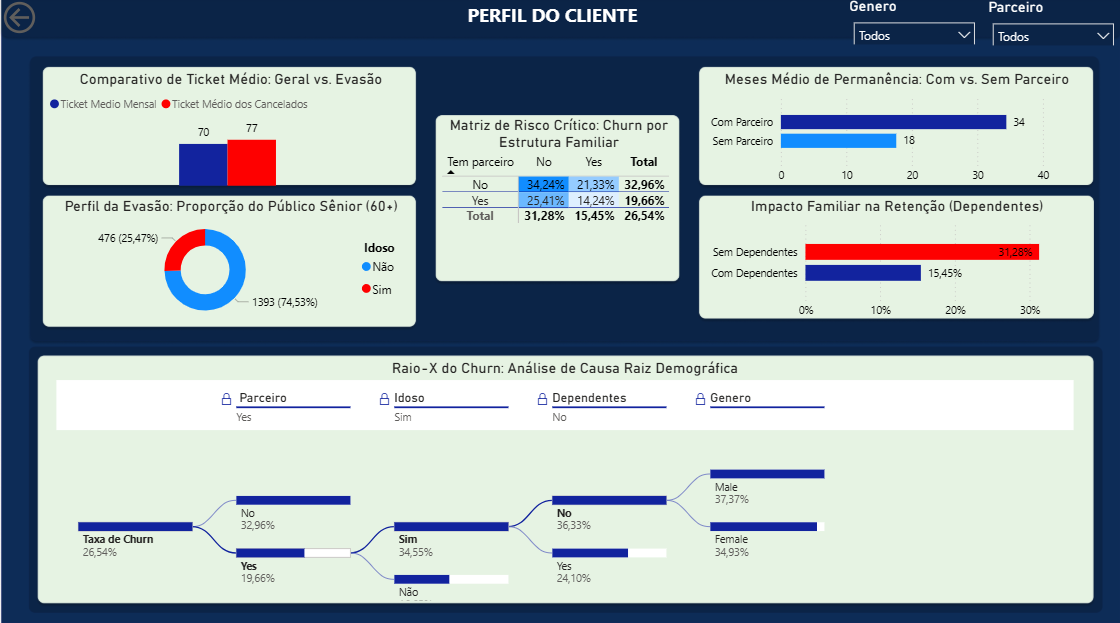

The page's visual inventory and layout, read from the dashboard file:
{"tool":"powerbi","page":{"name":"Perfil do Cliente","canvas":[1280,720],"ordinal":2},"visuals":[{"type":"clusteredColumnChart","title":"Comparativo de Ticket Médio: Geral vs. Evasão","fields":{"Y":["_Medidas.Ticket Medio Mensal","_Medidas.Ticket Médio dos Cancelados"]},"box":[52.4,83.2,423.8,137.8],"z":0},{"type":"clusteredBarChart","title":"Impacto Familiar na Retenção (Dependentes)","fields":{"Y":["_Medidas.Taxa de Churn"],"Category":["public tabela_dim_cliente.Perfil Dependentes"]},"box":[799.7,227.8,446.6,147],"z":1000},{"type":"donutChart","title":"Perfil da Evasão: Proporção do Público Sênior (60+)","fields":{"Category":["public tabela_dim_cliente.Perfil Idoso"],"Y":["_Medidas.Clientes Perdidos"]},"box":[52.4,227.8,423.8,147],"z":2000},{"type":"slicer","title":"Parceiro","fields":{"Values":["public tabela_dim_cliente.temparceiro"]},"box":[1122.2,1.1,158.4,53.5],"z":3000},{"type":"clusteredBarChart","title":"Meses Médio de Permanência: Com vs. Sem Parceiro","fields":{"Y":["_Medidas.Tempo de Casa Medio"],"Category":["public tabela_dim_cliente.Perfil Parceiros"]},"box":[799.7,83.2,446.6,137.8],"z":4000},{"type":"decompositionTreeVisual","title":"Raio-X do Churn: Análise de Causa Raiz Demográfica","fields":{"Analyze":["_Medidas.Taxa de Churn"],"ExplainBy":["public tabela_dim_cliente.temparceiro","public tabela_dim_cliente.Perfil Idoso","public tabela_dim_cliente.temdependentes","public tabela_dim_cliente.genero"]},"box":[60.4,412.4,1168.9,280.3],"z":5000},{"type":"pivotTable","title":"Matriz de Risco Crítico: Churn por Estrutura Familiar","fields":{"Rows":["public tabela_dim_cliente.temparceiro"],"Columns":["public tabela_dim_cliente.temdependentes"],"Values":["_Medidas.Taxa de Churn"]},"box":[500.1,135.6,275.7,190.3],"z":6000},{"type":"textbox","box":[528.6,0,222.2,37.6],"z":7000},{"type":"slicer","title":"Genero","fields":{"Values":["public tabela_dim_cliente.genero"]},"box":[963.8,0,158.4,53.5],"z":8000},{"type":"actionButton","box":[0,0,67.2,46.7],"z":9000}]}

Visuals, with their boxes in screenshot pixels (x1, y1, x2, y2), scaled from the page's 1280x720 canvas onto the 1120x623 screenshot:
"Comparativo de Ticket Médio: Geral vs. Evasão" clusteredColumnChart: detection(46, 72, 417, 191)
"Impacto Familiar na Retenção (Dependentes)" clusteredBarChart: detection(700, 197, 1091, 324)
"Perfil da Evasão: Proporção do Público Sênior (60+)" donutChart: detection(46, 197, 417, 324)
"Parceiro" slicer: detection(982, 1, 1119, 47)
"Meses Médio de Permanência: Com vs. Sem Parceiro" clusteredBarChart: detection(700, 72, 1091, 191)
"Raio-X do Churn: Análise de Causa Raiz Demográfica" decompositionTreeVisual: detection(53, 357, 1076, 599)
"Matriz de Risco Crítico: Churn por Estrutura Familiar" pivotTable: detection(438, 117, 679, 282)
textbox: detection(463, 0, 657, 33)
"Genero" slicer: detection(843, 0, 982, 46)
actionButton: detection(0, 0, 59, 40)
